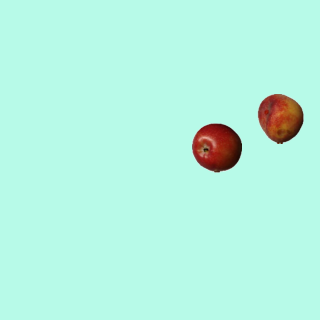Apple Braeburn: (191, 122, 241, 172)
Peach: (255, 93, 305, 143)
